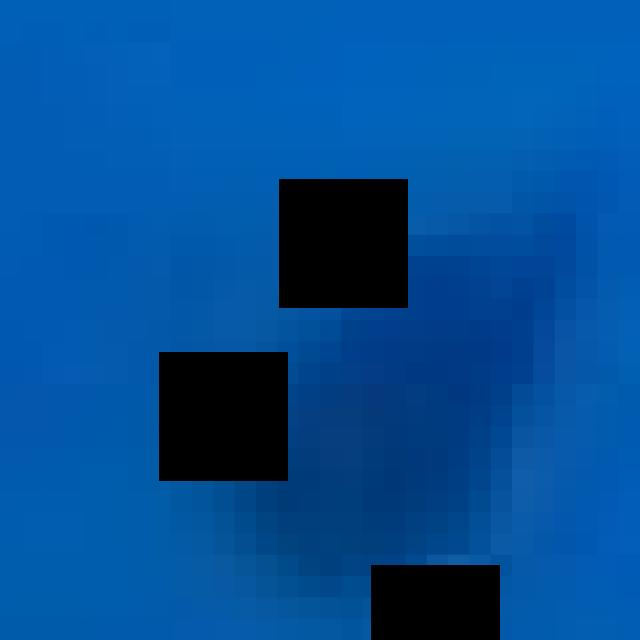fish: (21, 21, 640, 640)
